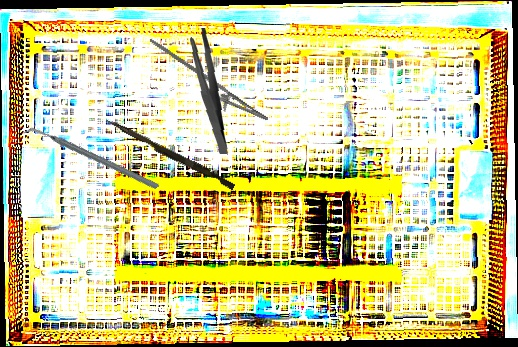Chopper: (21, 87, 161, 230)
Dressing Forceps: (184, 27, 235, 155)
Needle Holder: (136, 37, 277, 132)
Pusher: (103, 117, 237, 191)
